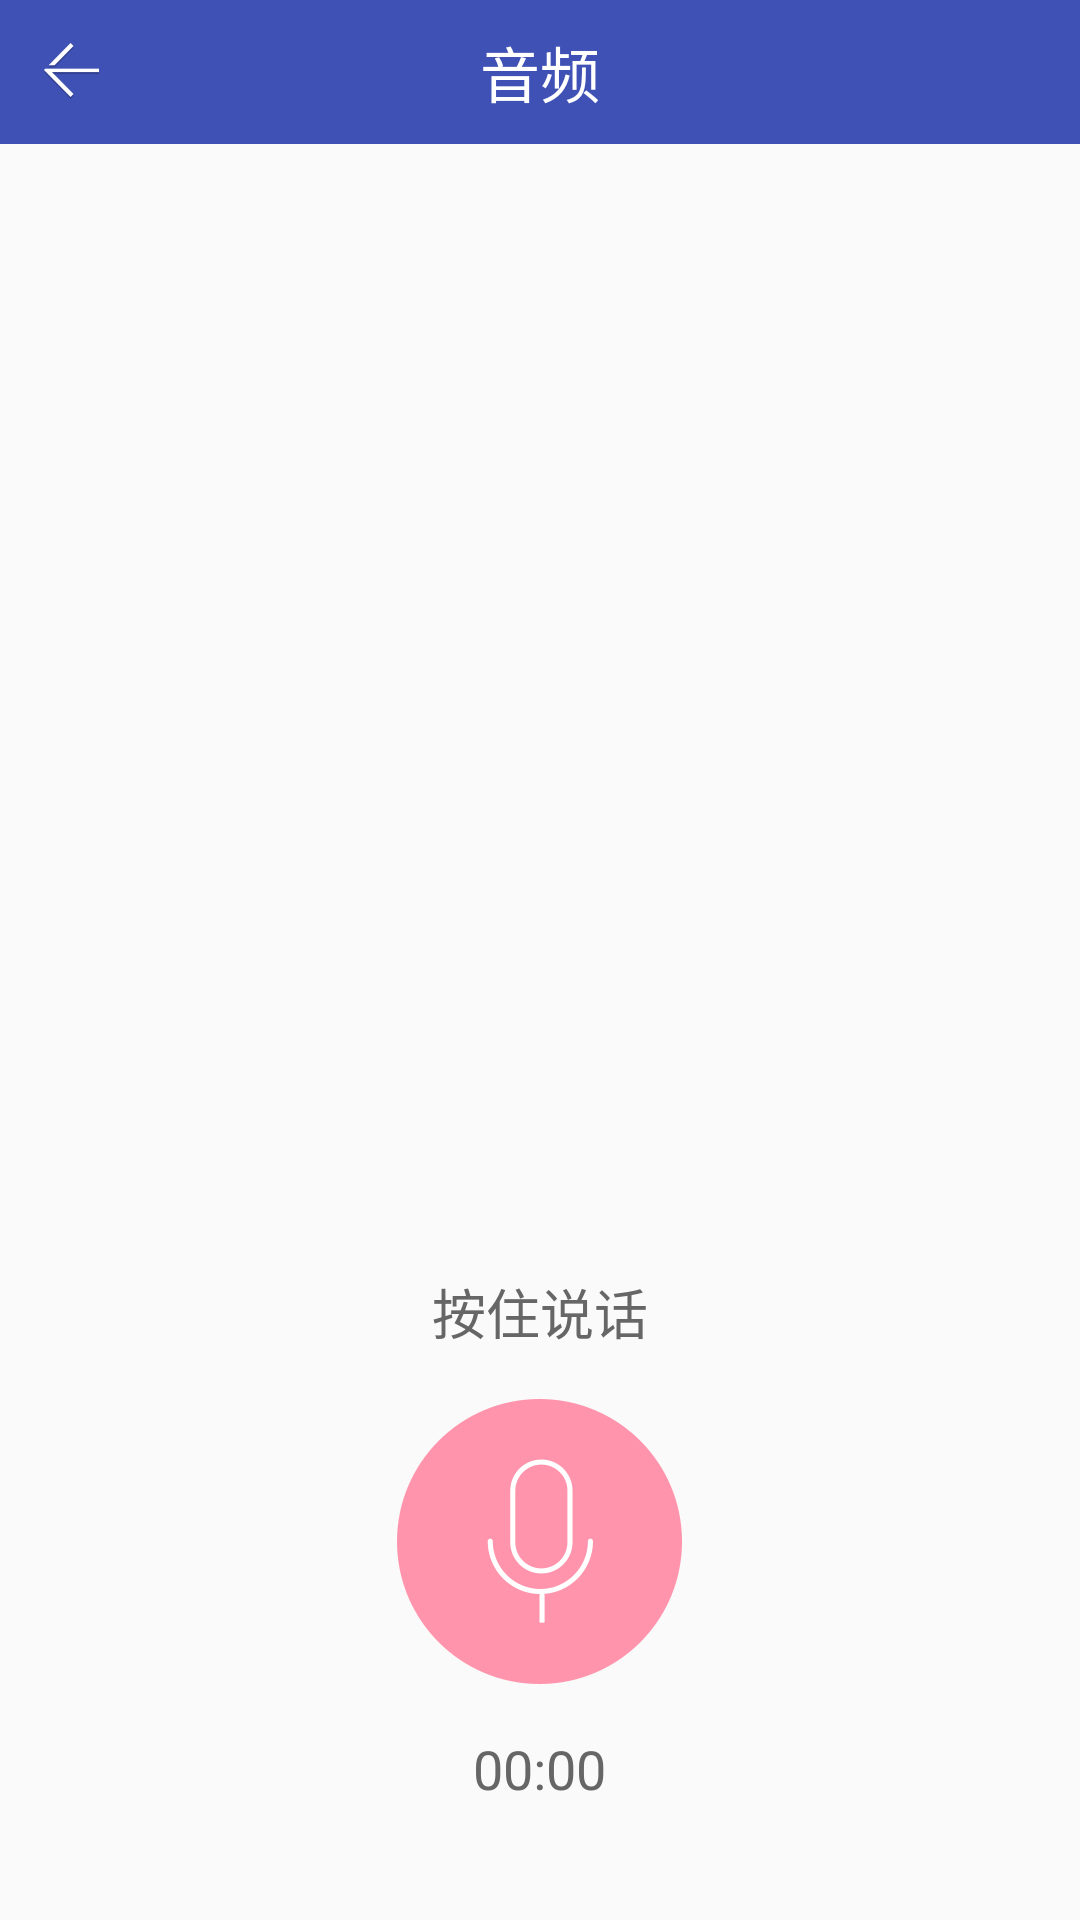

Icons on this 1080px×1920px Android screen, each with its box as region(x1, y1, x2, y2):
top back: region(44, 43, 99, 99)
